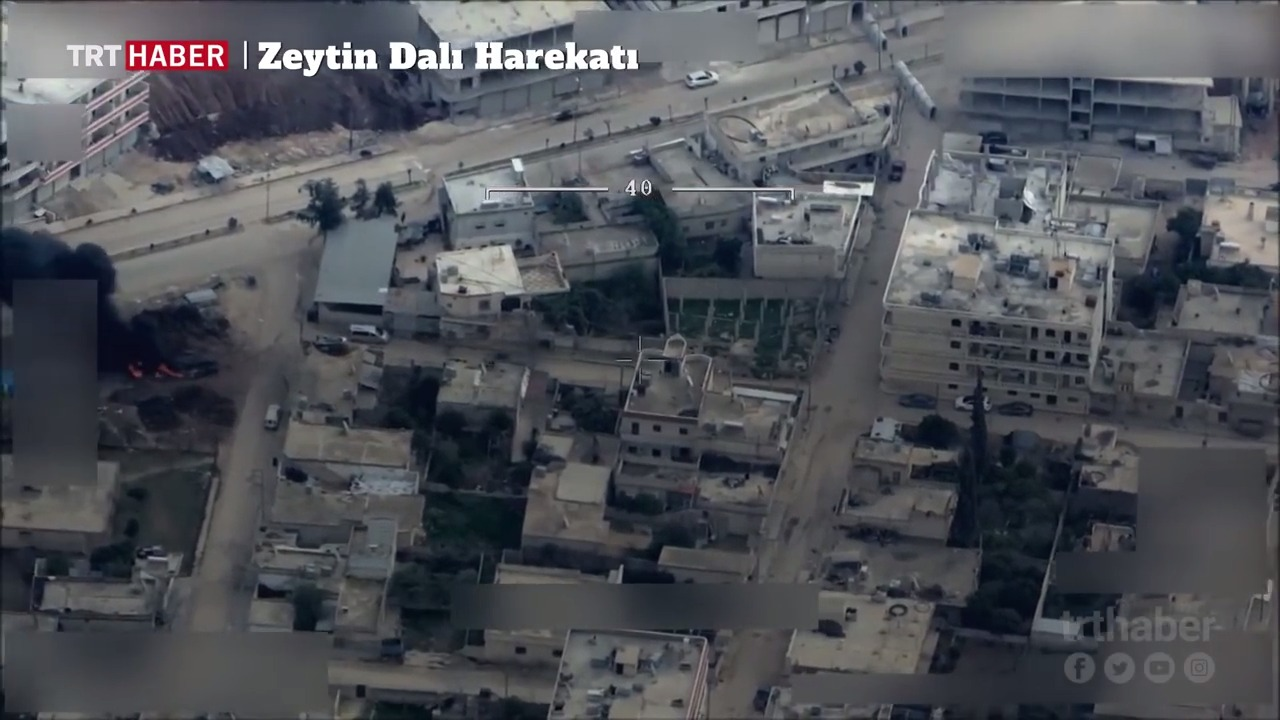arac: (675, 62, 732, 100), (997, 392, 1045, 423), (262, 390, 294, 434), (343, 315, 389, 342), (897, 387, 949, 409), (875, 153, 908, 181), (978, 130, 1010, 147)
